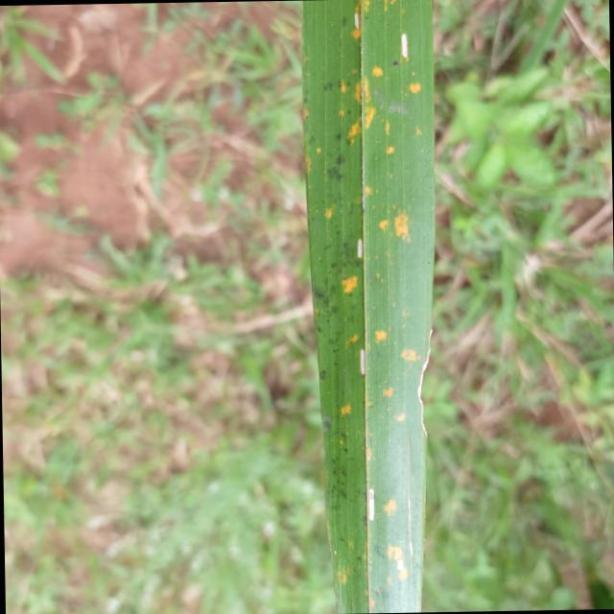Kalium: (300, 1, 438, 614)
